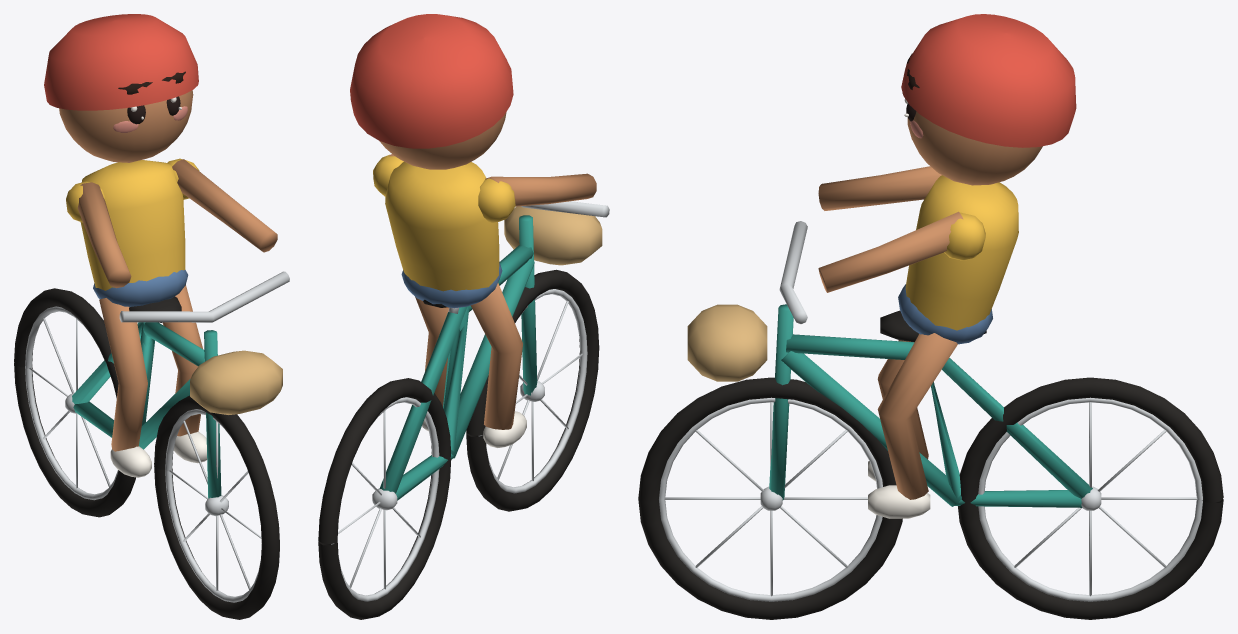
Rendered from cyclist.glb.
The picture shows the model from 3 angles, left to right: view 1: azimuth 30°, elevation 25°; view 2: azimuth 150°, elevation 25°; view 3: azimuth 270°, elevation 25°; orthographic projection. The views are drawn at different scales.
Parts seen in each view (by area): view 1: head.001, bike, wheel_F, rider, wheel_B, leg_R, arm_L, arm_R, leg_L; view 2: head.001, bike, rider, wheel_B, wheel_F, leg_R, arm_R, leg_L, arm_L; view 3: head.001, bike, wheel_B, wheel_F, rider, leg_L, arm_L, arm_R, leg_R.
Boxes of the visible parts, x1=… form: head.001: x1=44, y1=14, x2=198, y2=162; bike: x1=72, y1=271, x2=289, y2=498; wheel_F: x1=154, y1=395, x2=279, y2=619; rider: x1=80, y1=160, x2=188, y2=306; wheel_B: x1=14, y1=288, x2=135, y2=517; leg_R: x1=99, y1=298, x2=151, y2=477; arm_L: x1=167, y1=158, x2=277, y2=252; arm_R: x1=66, y1=181, x2=131, y2=288; leg_L: x1=162, y1=285, x2=207, y2=463; head.001: x1=350, y1=14, x2=513, y2=169; bike: x1=379, y1=201, x2=609, y2=500; rider: x1=385, y1=161, x2=502, y2=308; wheel_B: x1=318, y1=378, x2=451, y2=619; wheel_F: x1=466, y1=269, x2=599, y2=511; leg_R: x1=470, y1=283, x2=526, y2=447; arm_R: x1=478, y1=173, x2=596, y2=222; leg_L: x1=415, y1=297, x2=448, y2=431; arm_L: x1=373, y1=154, x2=403, y2=196; head.001: x1=901, y1=14, x2=1076, y2=185; bike: x1=687, y1=221, x2=1092, y2=507; wheel_B: x1=958, y1=377, x2=1223, y2=619; wheel_F: x1=638, y1=377, x2=902, y2=619; rider: x1=898, y1=175, x2=1018, y2=344; leg_L: x1=868, y1=333, x2=957, y2=518; arm_L: x1=818, y1=211, x2=985, y2=292; arm_R: x1=818, y1=166, x2=941, y2=210; leg_R: x1=868, y1=340, x2=928, y2=481.
Bounding box in the file's own units: 0.4538 × 1.33 × 1.19.
